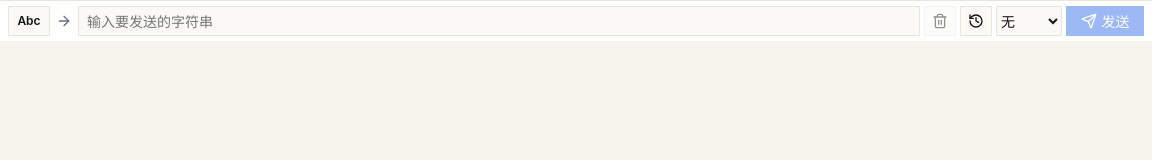
Test case: RttTransmitBar › renders the compact controls in the reference order and toggles Abc/Hex
Click the button with test id "rtt-format".
click(29, 21)  # box [8,6,50,36]
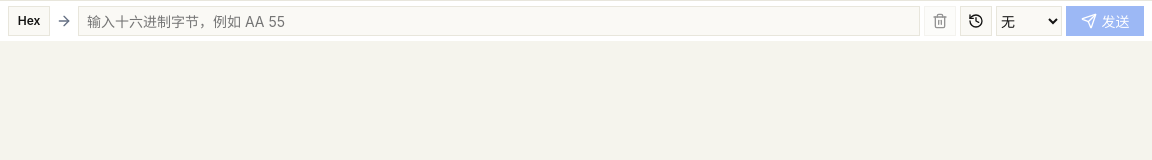
Check: the button with test id "rtt-format" reads "Hex", box [8,6,50,36]
